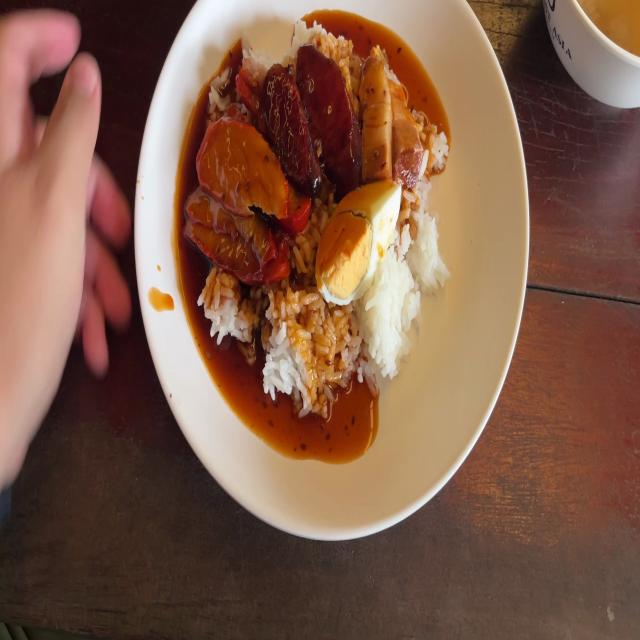01boiled_egg: (321, 181, 404, 296)
01chainese_sausage: (264, 44, 356, 186), (303, 49, 356, 176), (266, 59, 313, 185)
01crispy_pork: (359, 43, 421, 186)
01red_pork: (189, 125, 299, 287), (196, 109, 301, 226), (181, 184, 282, 278)
01red_pork_and_crispy_pork: (197, 31, 453, 374)
01rice: (265, 280, 349, 401), (362, 254, 422, 371), (200, 272, 253, 343), (399, 211, 447, 279)
